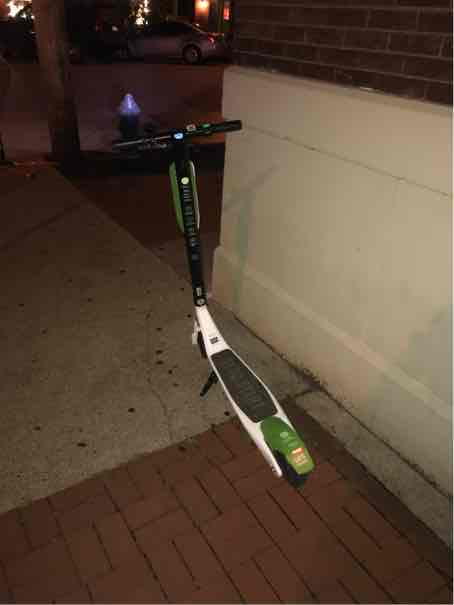scooter: (100, 112, 337, 485)
